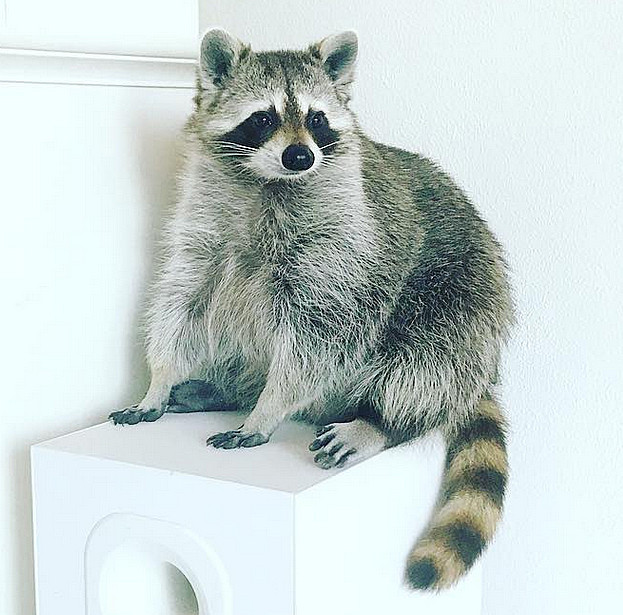raccoon: (163, 20, 525, 588)
